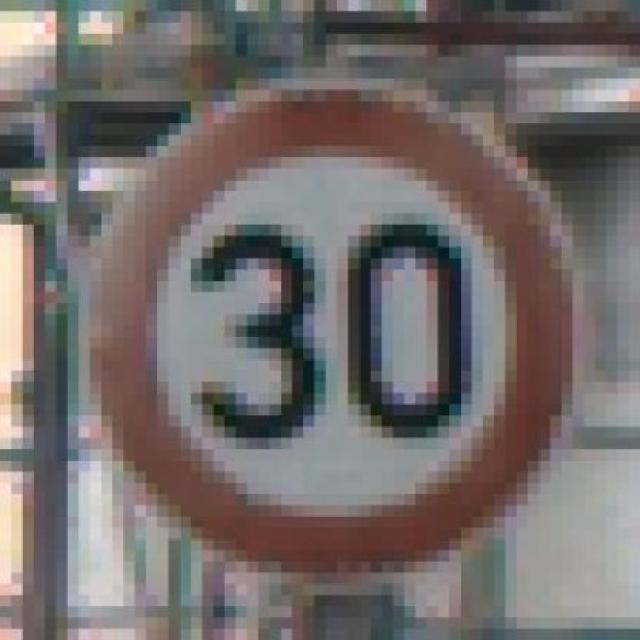Speed Limit 30 KMPh: (68, 45, 595, 572)
